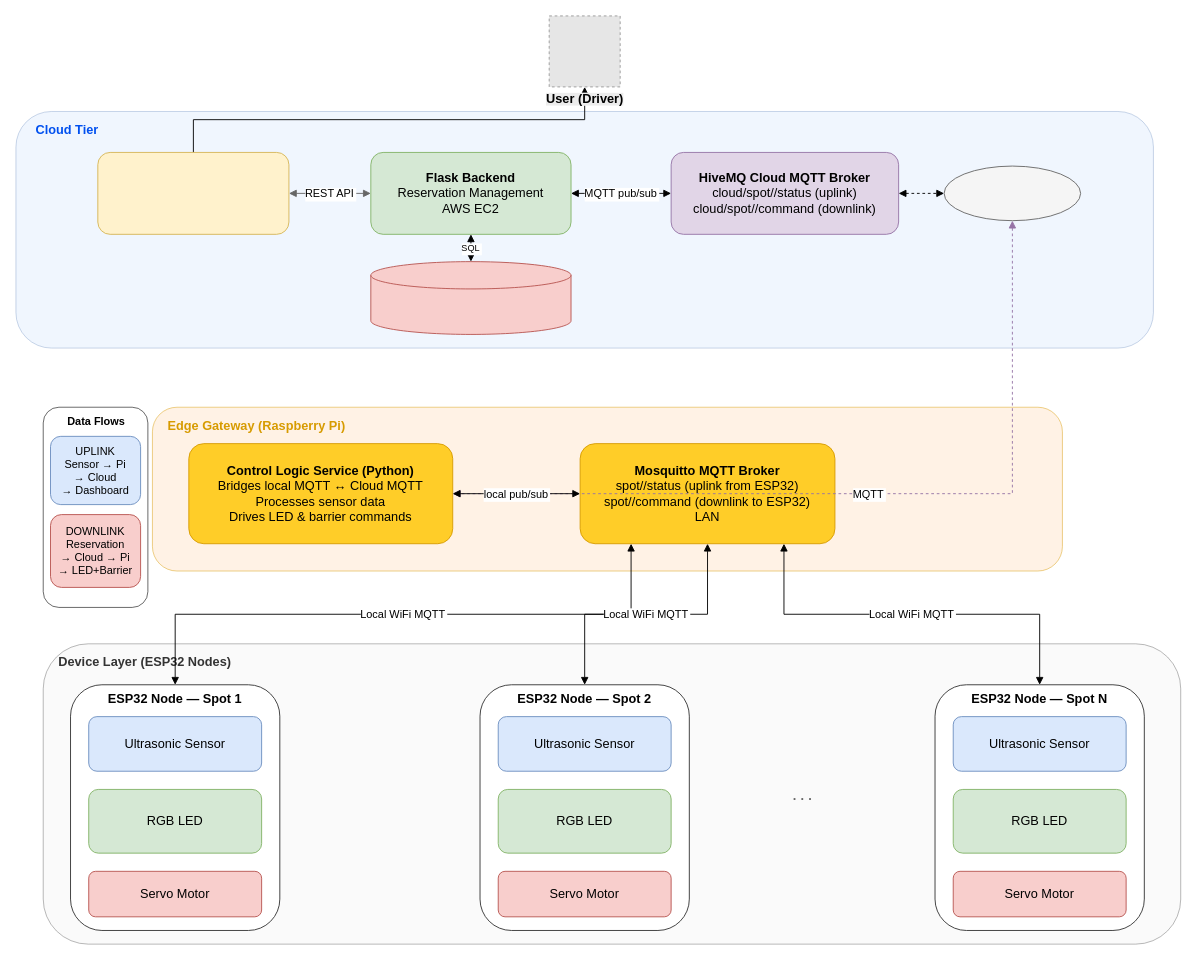
The diagram is 1197 pixels wide and 960 high, and some of its shapes have lost their labels. Grey dashed boxes stand in for pictures. Here are the shapes that lost their labels. From the top down, the centre of each, then its label:
At point (193, 193): "Web Dashboard Real-time Parking Map Public URL".
At point (1012, 193): "Internet (MQTT)".
At point (470, 297): "Database Spots, Reservations, States".
